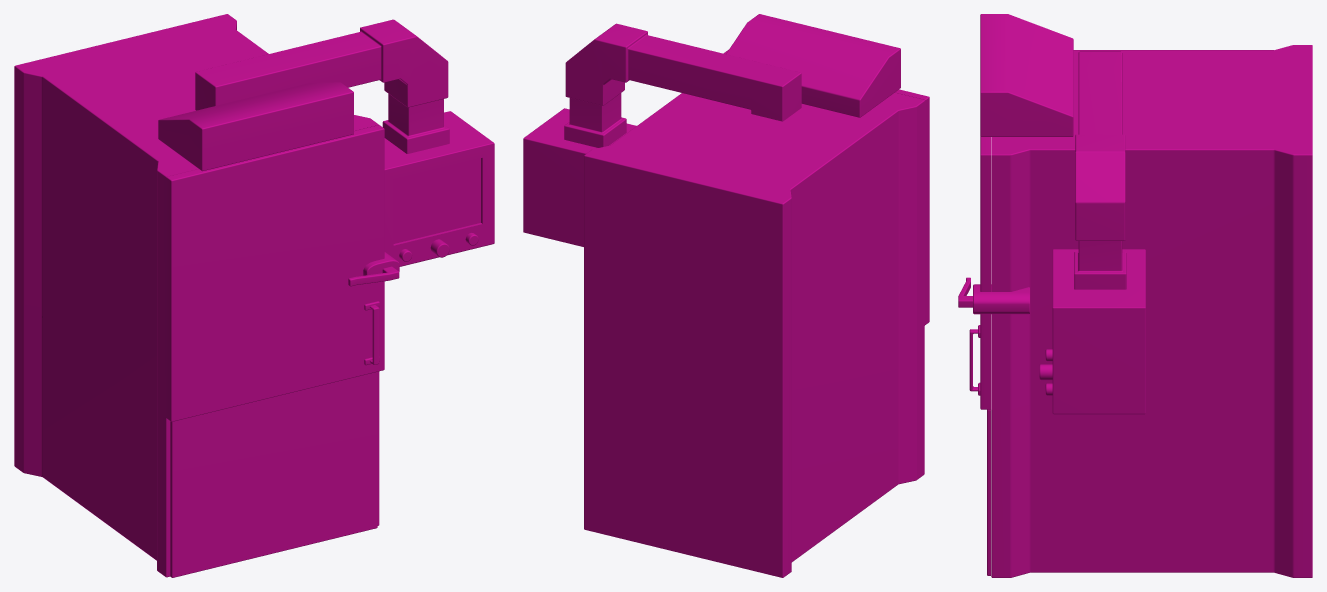
The model's file is SM_Xray.fbx.
3 renders of one model, left to right at view 1: azimuth 30°, elevation 25°; view 2: azimuth 150°, elevation 25°; view 3: azimuth 270°, elevation 25°, orthographic. The views are drawn at different scales.
Visible parts, largest first — view 1: SM_XrayMachine; view 2: SM_XrayMachine; view 3: SM_XrayMachine.
Boxes of the visible parts, box(x1,y1,x2,y2) form: SM_XrayMachine: box(14, 14, 494, 577); SM_XrayMachine: box(523, 14, 929, 577); SM_XrayMachine: box(958, 14, 1312, 577).
Bounding box in the file's own units: 187 × 222 × 152.
